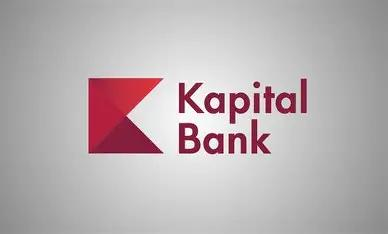Kapital Bank: (86, 75, 167, 156)
